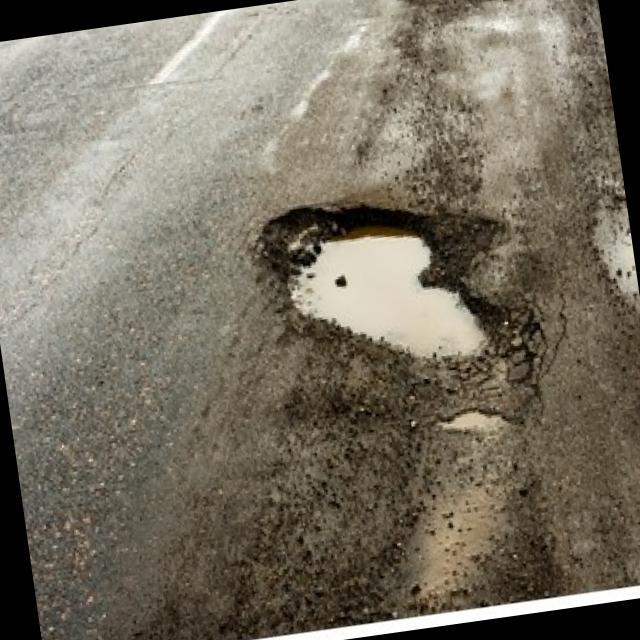Pothole: (248, 179, 520, 398)
